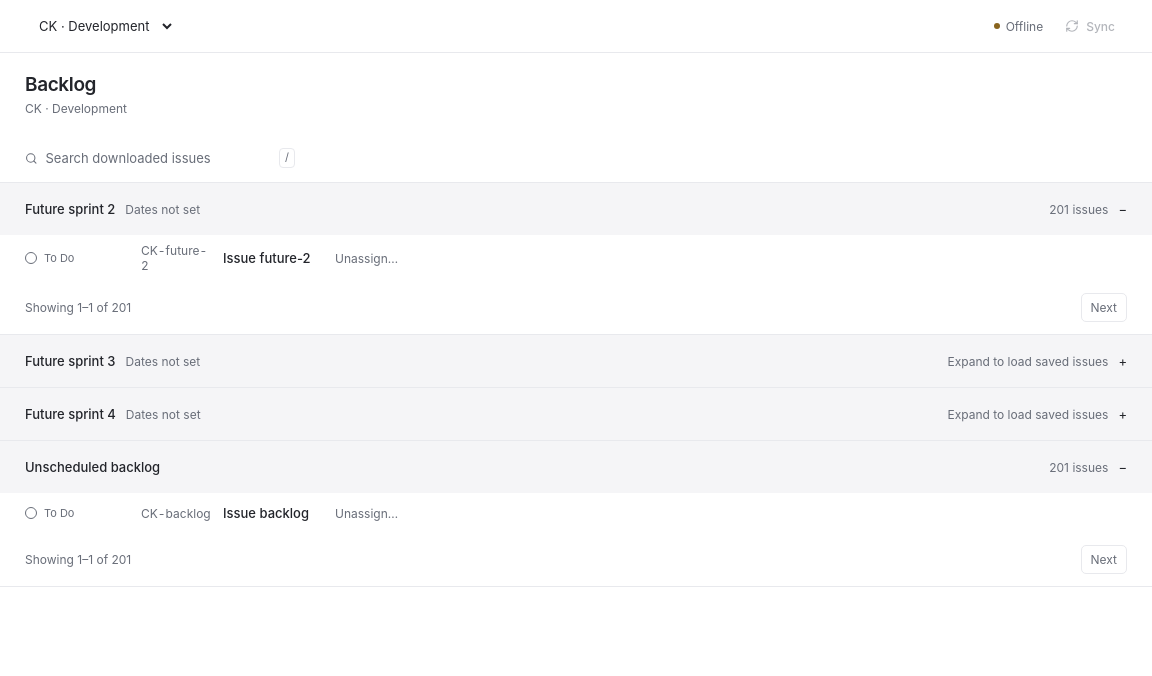
combined backlog planning › loads first future and unscheduled pages, keeps later sections collapsed, and paginates independently
What coordinates should you click on to do the following:
click the 1st button "Next"
I would click on:
 (1104, 308)
Its box is [1080,293,1127,322].
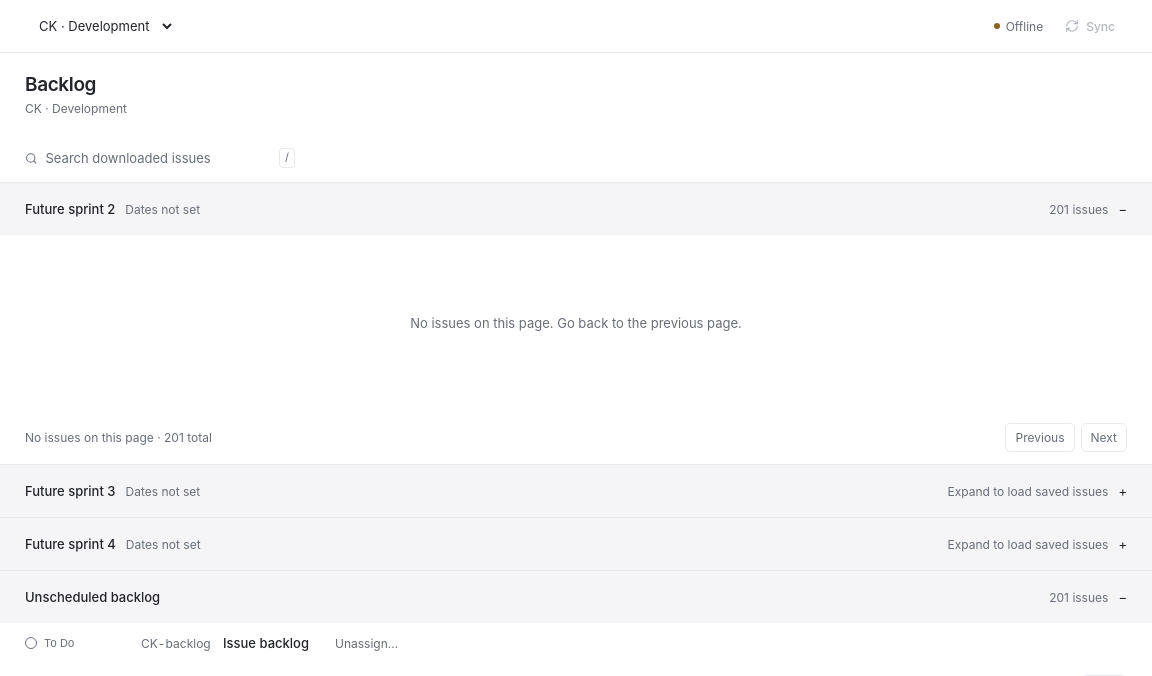
What coordinates should you click on to do the following:
click the button "Future sprint 3 Dates not set Expand to load saved issues +"
I would click on:
 (70, 491)
Its box is [0,465,1151,517].
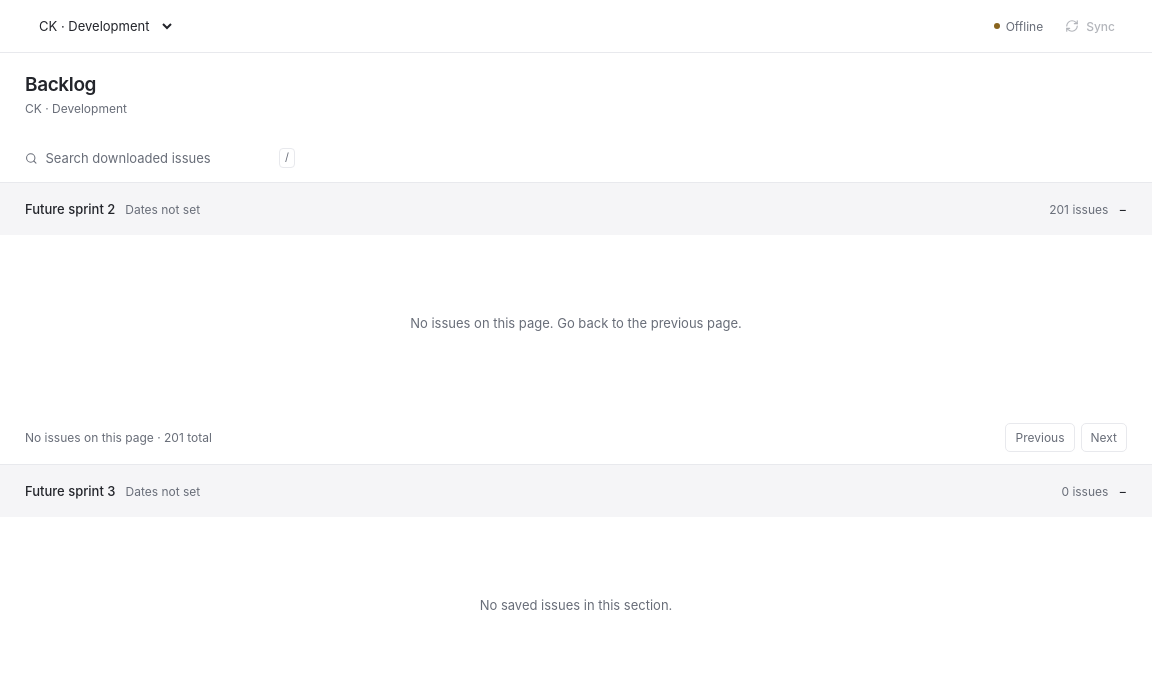
Expected: the button "Future sprint 3 Dates not set 0 issues −" is expanded, [0,465,1151,517]
Expected: the text "No saved issues in this section." is shown, [480,597,672,613]
